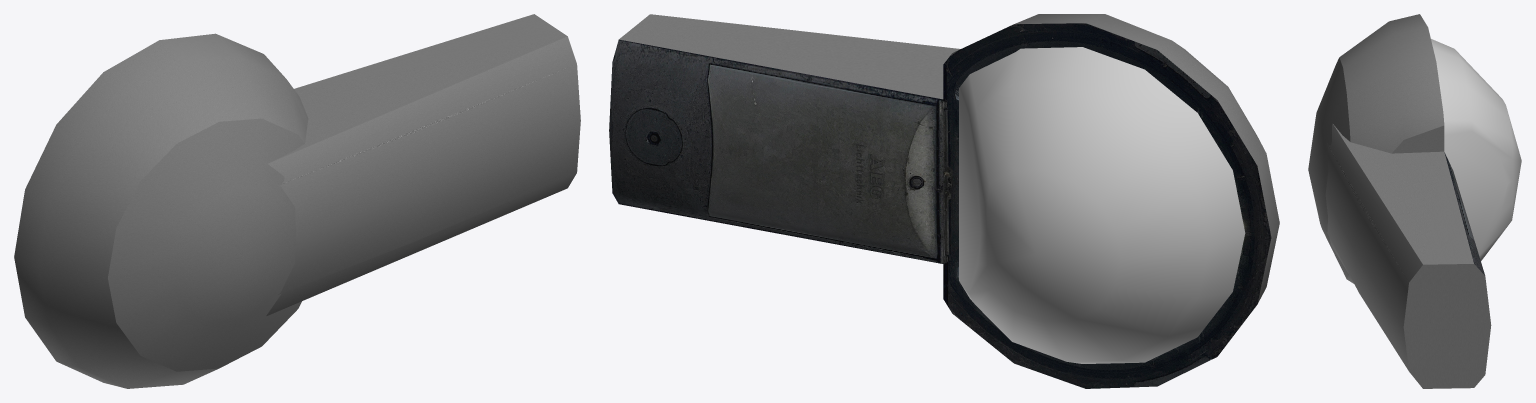
Rendered from Stradasole 400.obj.
3 views of the same model, side by side, from view 1: azimuth 30°, elevation 25°; view 2: azimuth 150°, elevation 25°; view 3: azimuth 270°, elevation 25° (orthographic). The views are drawn at different scales.
Parts seen in each view (by area): view 1: Stradasole_400_Cube.003; view 2: Stradasole_400_Cube.003; view 3: Stradasole_400_Cube.003.
Boxes of the visible parts, box(x1,y1,x2,y2) form: Stradasole_400_Cube.003: box(14, 14, 580, 388); Stradasole_400_Cube.003: box(609, 14, 1279, 388); Stradasole_400_Cube.003: box(1308, 14, 1521, 388).
Bounding box in the file's own units: 0.723 × 0.413 × 0.2897.
3 materials, 2 textured.
